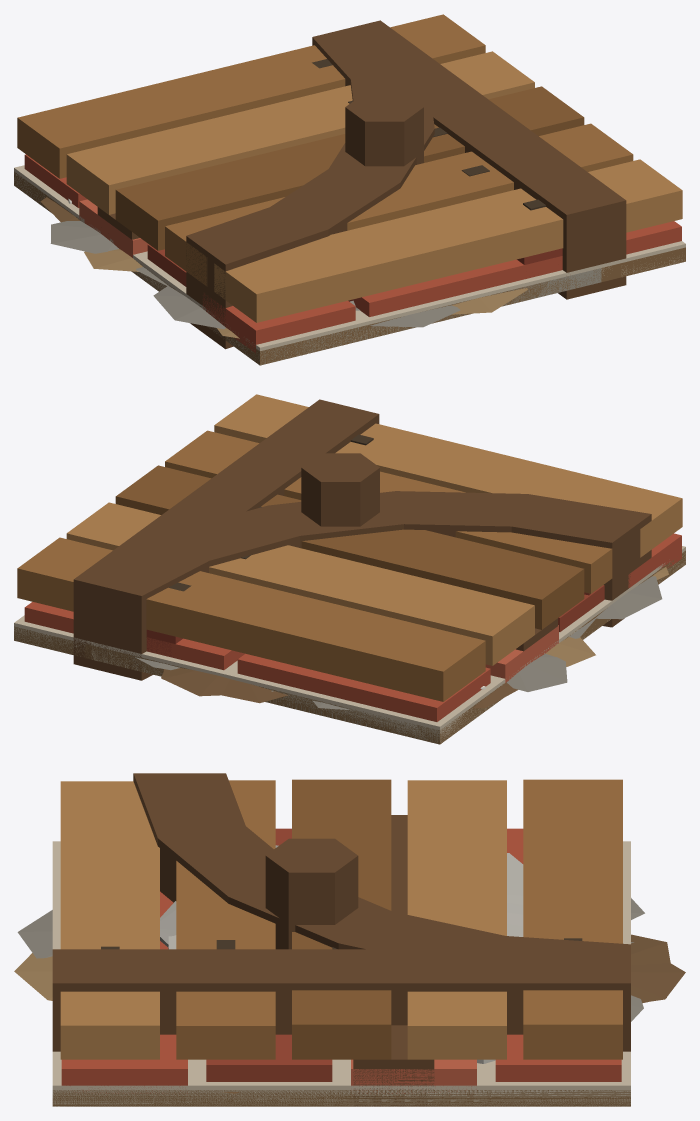
Rendered from paths.glb.
The picture shows the model from 3 angles, top to bottom: view 1: azimuth 30°, elevation 25°; view 2: azimuth 150°, elevation 25°; view 3: azimuth 270°, elevation 25°; orthographic projection. The views are drawn at different scales.
Parts seen in each view (by area): view 1: path_wood_outer_0_main, path_wood_full_1_main, path_wood_edge_0_main, path_wood_full_0_main, path_brick_full_0_main, path_wood_edge_1_main, path_wood_outer_2_main, path_wood_full_2_main, path_wood_edge_2_main, path_brick_edge_0_main, path_dirt_full_0_main, path_dirt_edge_0_main (+10 smaller); view 2: path_wood_outer_0_main, path_wood_full_1_main, path_wood_edge_0_main, path_wood_full_0_main, path_brick_full_0_main, path_wood_edge_1_main, path_wood_outer_2_main, path_wood_full_2_main, path_wood_edge_2_main, path_brick_edge_0_main, path_dirt_edge_0_main, path_dirt_full_0_main (+8 smaller); view 3: path_wood_outer_0_main, path_wood_full_1_main, path_wood_edge_0_main, path_brick_full_0_main, path_wood_full_0_main, path_wood_edge_1_main, path_wood_outer_2_main, path_wood_full_2_main, path_dirt_full_0_main, path_wood_edge_2_main, path_brick_edge_1_main, path_dirt_outer_0_main (+6 smaller).
Part boxes in pixels (x1,y1,x2,y2): path_wood_outer_0_main: [18, 21, 434, 349]; path_wood_full_1_main: [17, 51, 682, 321]; path_wood_edge_0_main: [17, 20, 626, 322]; path_wood_full_0_main: [17, 47, 682, 322]; path_brick_full_0_main: [14, 154, 685, 364]; path_wood_edge_1_main: [17, 45, 545, 320]; path_wood_outer_2_main: [17, 85, 352, 279]; path_wood_full_2_main: [17, 14, 682, 322]; path_wood_edge_2_main: [17, 60, 543, 321]; path_brick_edge_0_main: [14, 165, 562, 358]; path_dirt_full_0_main: [14, 172, 685, 365]; path_dirt_edge_0_main: [14, 173, 621, 364]; path_wood_outer_0_main: [73, 453, 651, 699]; path_wood_full_1_main: [17, 394, 682, 701]; path_wood_edge_0_main: [73, 399, 678, 700]; path_wood_full_0_main: [17, 428, 682, 701]; path_brick_full_0_main: [14, 533, 685, 742]; path_wood_edge_1_main: [146, 435, 682, 699]; path_wood_outer_2_main: [172, 545, 611, 692]; path_wood_full_2_main: [17, 430, 681, 701]; path_wood_edge_2_main: [147, 436, 682, 700]; path_brick_edge_0_main: [129, 546, 685, 744]; path_dirt_edge_0_main: [85, 552, 685, 743]; path_dirt_full_0_main: [14, 551, 685, 744]; path_wood_outer_0_main: [133, 773, 630, 982]; path_wood_full_1_main: [60, 781, 622, 1059]; path_wood_edge_0_main: [52, 815, 630, 1051]; path_brick_full_0_main: [52, 828, 630, 1106]; path_wood_full_0_main: [60, 815, 622, 1106]; path_wood_edge_1_main: [102, 779, 622, 949]; path_wood_outer_2_main: [407, 780, 506, 935]; path_wood_full_2_main: [61, 990, 622, 1059]; path_dirt_full_0_main: [52, 1090, 630, 1106]; path_wood_edge_2_main: [101, 780, 582, 949]; path_brick_edge_1_main: [52, 842, 630, 949]; path_dirt_outer_0_main: [631, 963, 685, 1001].
Bounding box in the file's own units: 0.5569 × 0.145 × 0.5809.
